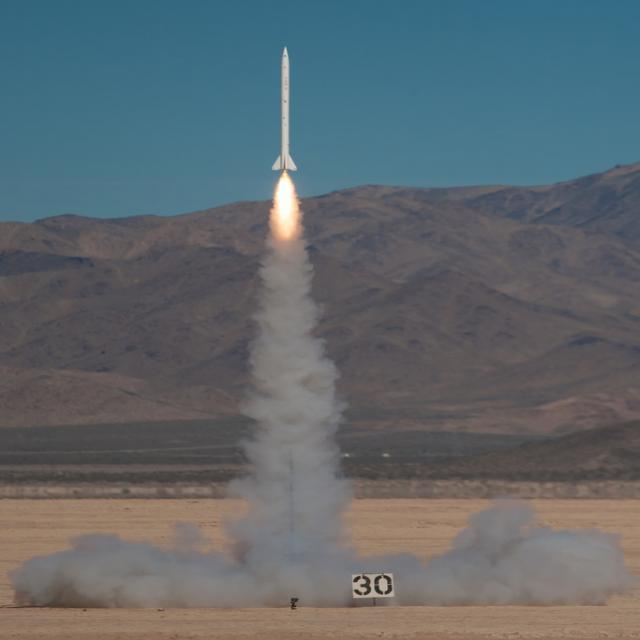missile: (269, 42, 300, 173)
